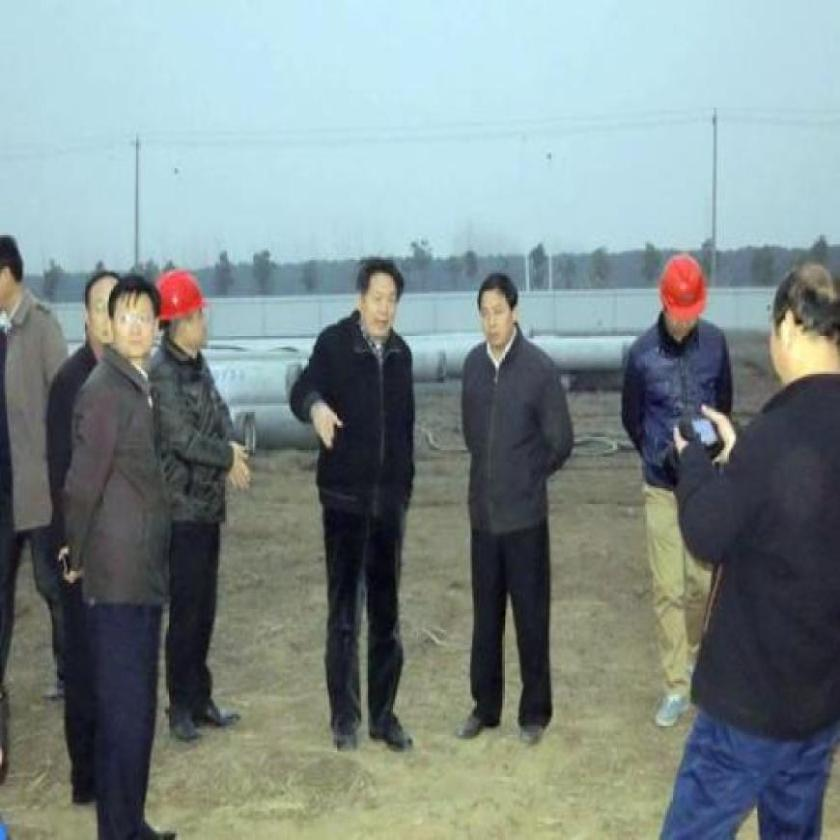Con_casco: (650, 256, 712, 351), (166, 264, 212, 355)
Sin_casco: (770, 263, 840, 393), (464, 261, 522, 348), (346, 246, 401, 333), (112, 278, 160, 374), (78, 252, 116, 340)
